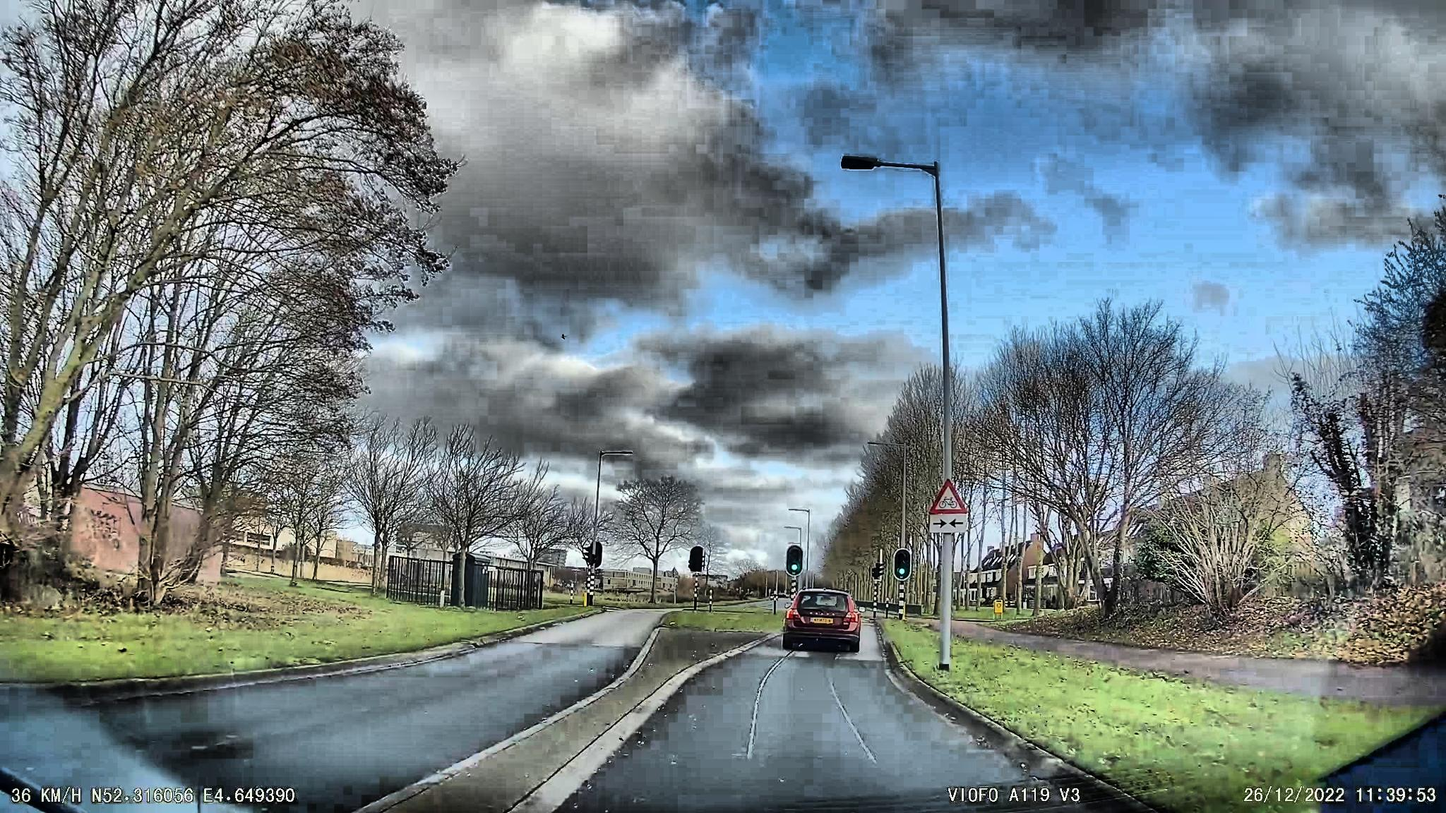Roads: (30, 613, 1151, 813)
